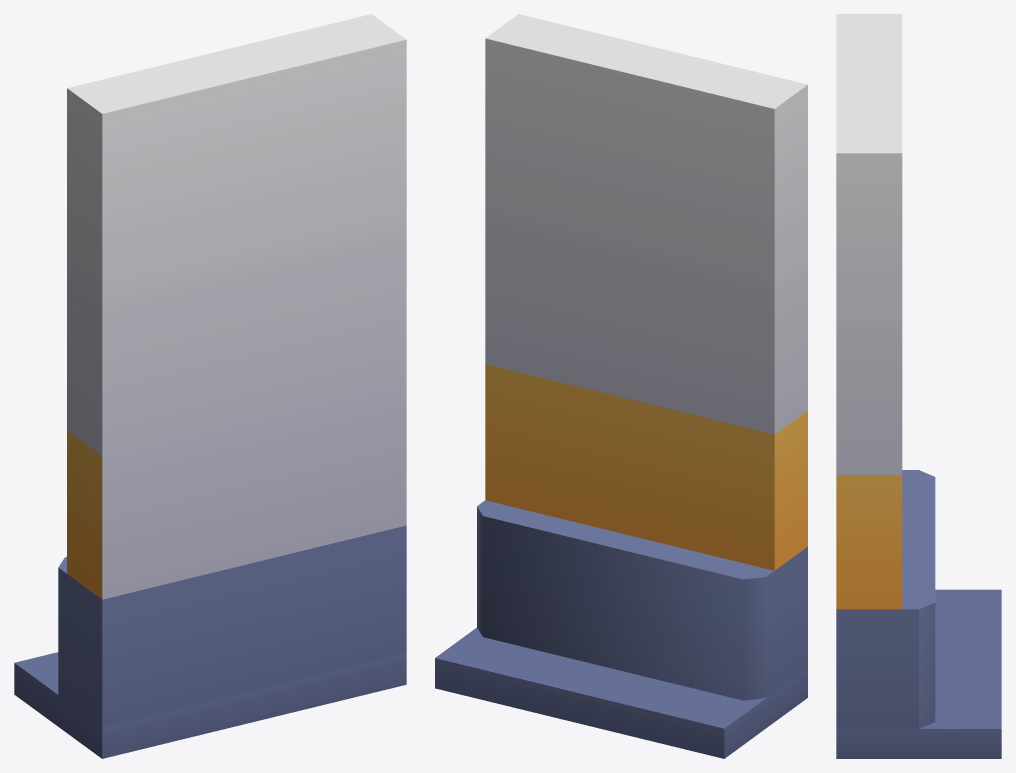
Rendered from template-wall-half.glb.
3 views of the same model, side by side, from view 1: azimuth 30°, elevation 25°; view 2: azimuth 150°, elevation 25°; view 3: azimuth 270°, elevation 25° (orthographic). The views are drawn at different scales.
Visible parts, largest first — view 1: template-wall-half; view 2: template-wall-half; view 3: template-wall-half.
Part boxes in pixels (x1=…): template-wall-half: x1=14, y1=14, x2=406, y2=758; template-wall-half: x1=435, y1=14, x2=807, y2=758; template-wall-half: x1=836, y1=14, x2=1001, y2=758.
Size of the model in its own units: 2 by 4.05 by 1.
Materials: 1 (1 with a texture image).
